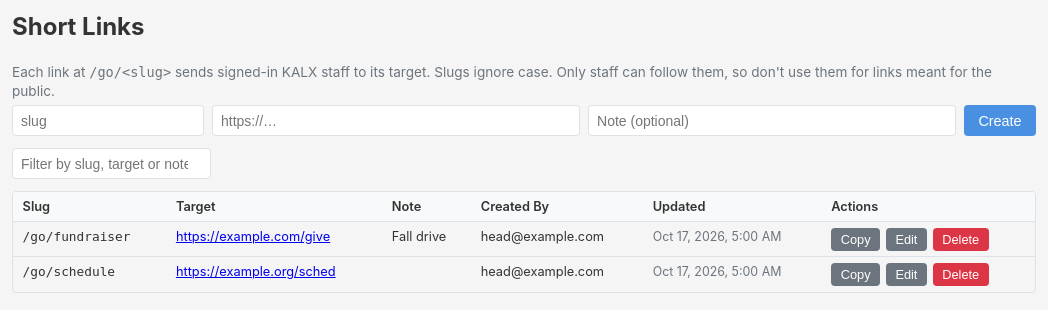
Test: ShortLinksSection › lists the links and filters them
This screenshot has width=1048, height=310.
Expected: the text "Fall drive" is shown, [382,222,471,257]
Expected: the text "head@example.com" in the row of "fundraiser" is shown, [481,229,604,244]
Type "SCHED" into the search field named "Filter short links".
click(112, 164); type("SCHED")  # box [12,148,211,179]
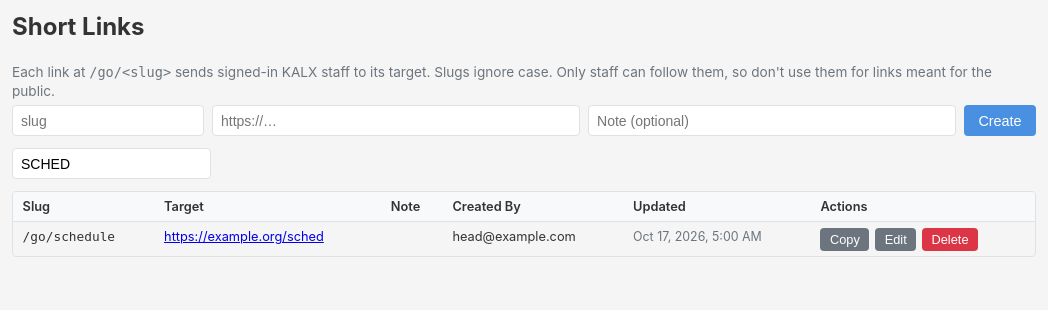
Expected: the text "/go/schedule" is shown, [23,229,115,244]
Now the text "/go/fundraiser" is gone
